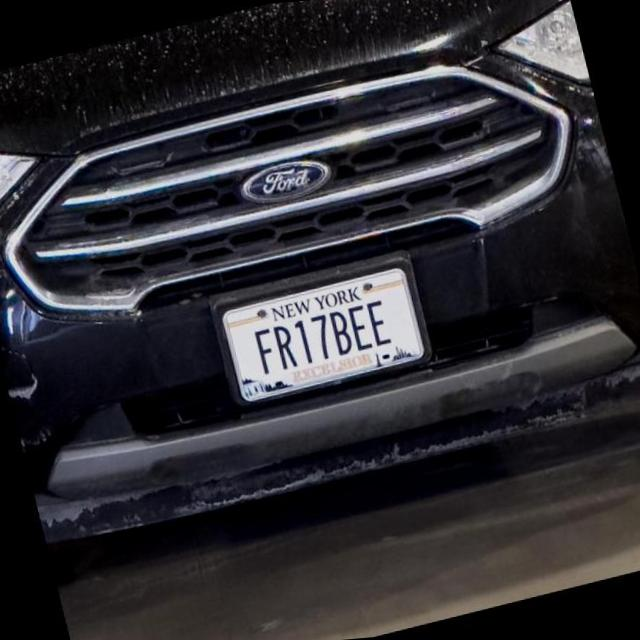LicensePlate: (206, 247, 434, 410)
